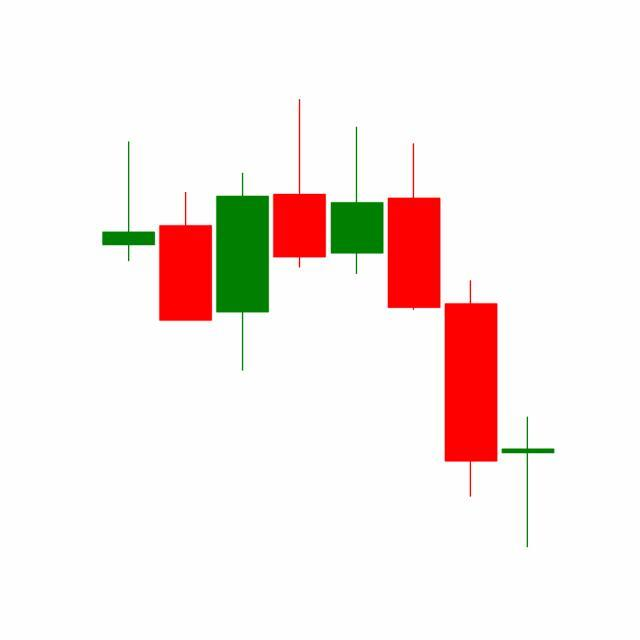Three Outside Up-Down: (328, 123, 500, 502)
